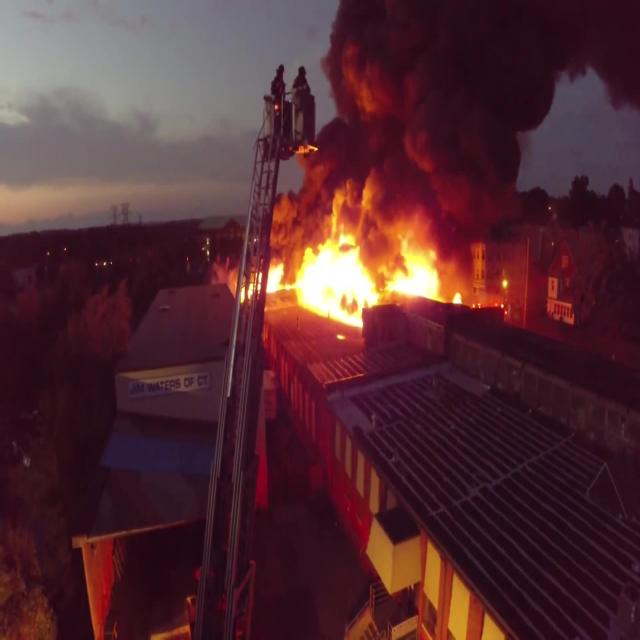Fire: (268, 227, 440, 343)
Smoke: (259, 0, 508, 237)
